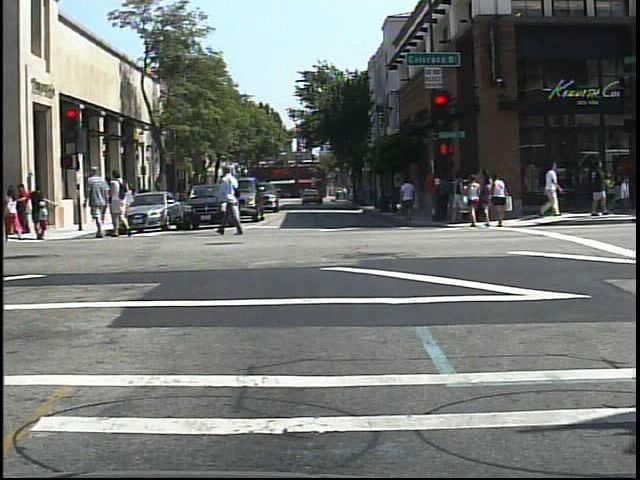person: (217, 161, 250, 239), (84, 164, 111, 239), (1, 179, 27, 245), (109, 166, 132, 239)
